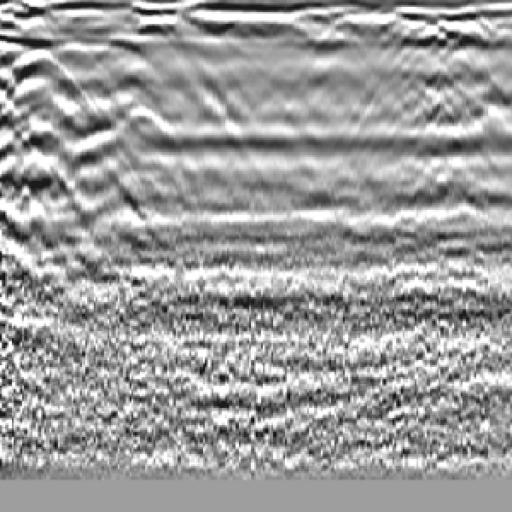non-metallic: (1, 40, 127, 238)
